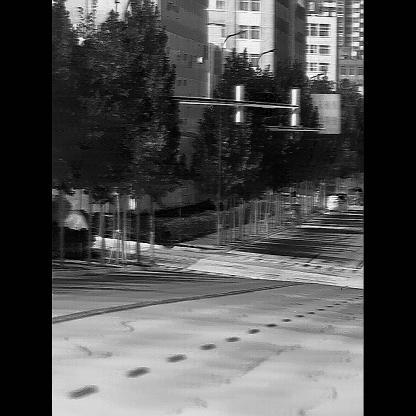car: (347, 187, 363, 206), (334, 193, 350, 211), (324, 194, 339, 212)
